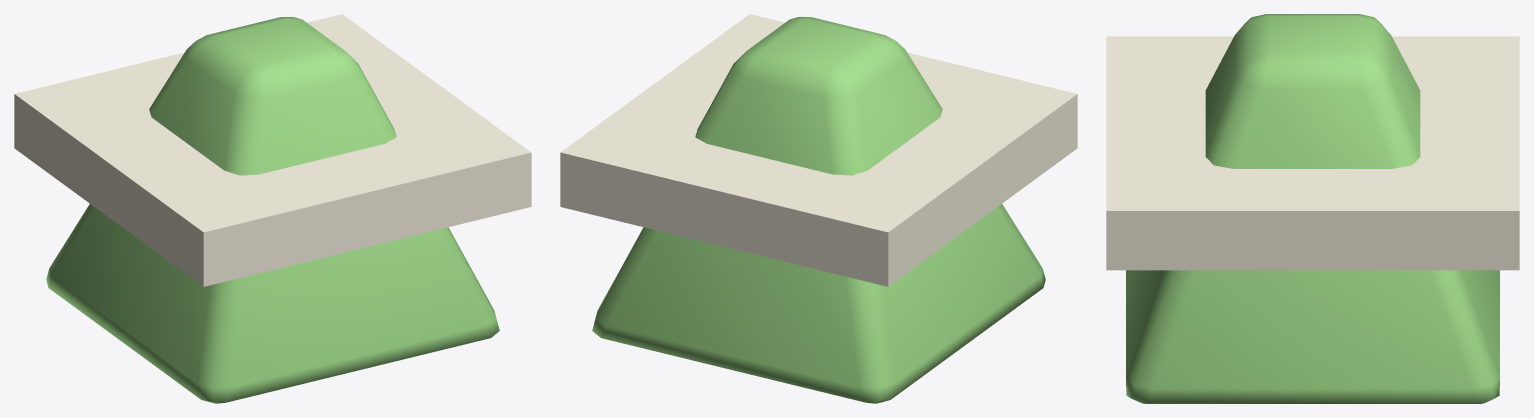
File: Prop_Bungkus.fbx
3 views of the same model, side by side, from view 1: azimuth 30°, elevation 25°; view 2: azimuth 150°, elevation 25°; view 3: azimuth 270°, elevation 25° (orthographic). The views are drawn at different scales.
Visible parts, largest first — view 1: Prop_Bungkus; view 2: Prop_Bungkus; view 3: Prop_Bungkus.
Boxes of the visible parts, x1=… form: Prop_Bungkus: x1=14, y1=14, x2=531, y2=403; Prop_Bungkus: x1=560, y1=14, x2=1077, y2=403; Prop_Bungkus: x1=1106, y1=14, x2=1519, y2=403.
Size of the model in its own units: 0.63 by 0.5 by 0.63.
